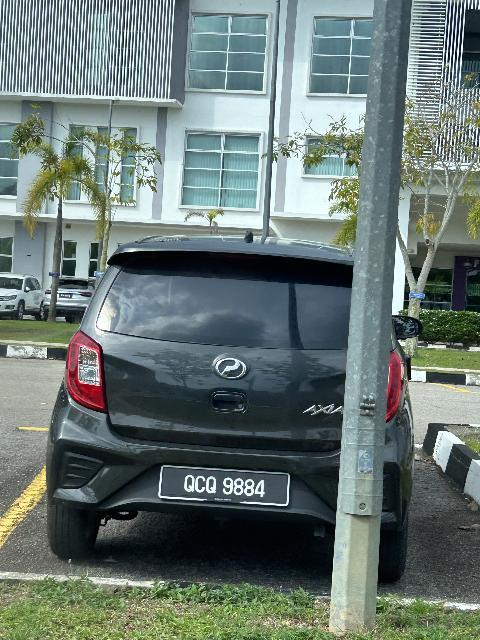License_Plate: (162, 470, 290, 509)
QCQ9884: (162, 470, 290, 509)
car: (33, 229, 421, 582)
